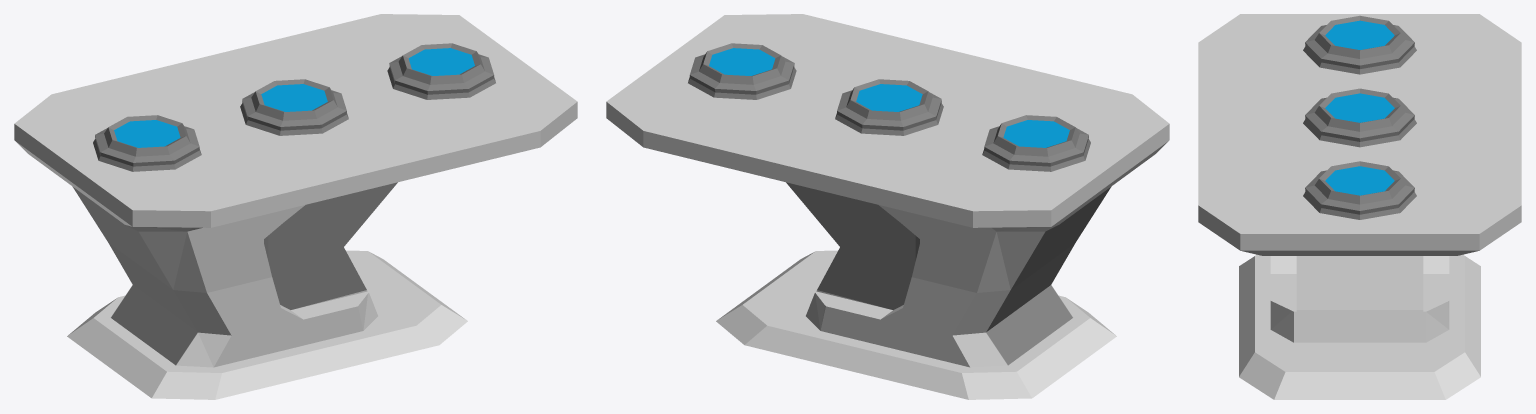
Rendered from upgrade-station.fbx.
3 renders of one model, left to right at view 1: azimuth 30°, elevation 25°; view 2: azimuth 150°, elevation 25°; view 3: azimuth 270°, elevation 25°, orthographic.
Visible parts, largest first — view 1: Cylinder.001; view 2: Cylinder.001; view 3: Cylinder.001.
Part boxes in pixels (bbox=[...]): Cylinder.001: bbox=[14, 14, 577, 399]; Cylinder.001: bbox=[606, 14, 1169, 399]; Cylinder.001: bbox=[1198, 14, 1521, 399].
Size of the model in its own units: 196 by 95.57 by 122.
